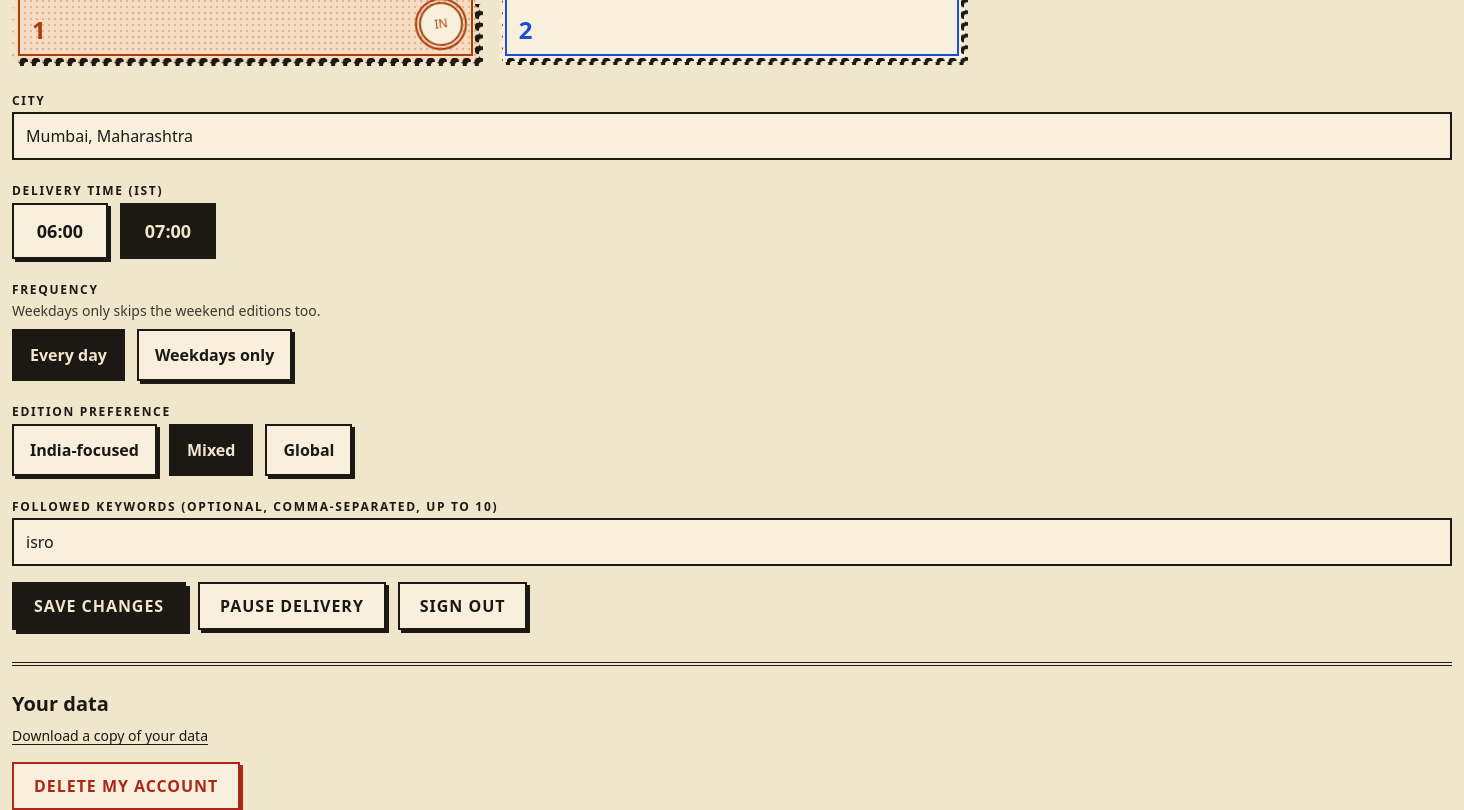
Scenario: PreferencesPage, signed in › asks for confirmation before deleting the account
(page scrolled)
Check: the text "Confirm delete" is not shown
Click the button "Delete my account": (126, 786) [12,762,240,809]
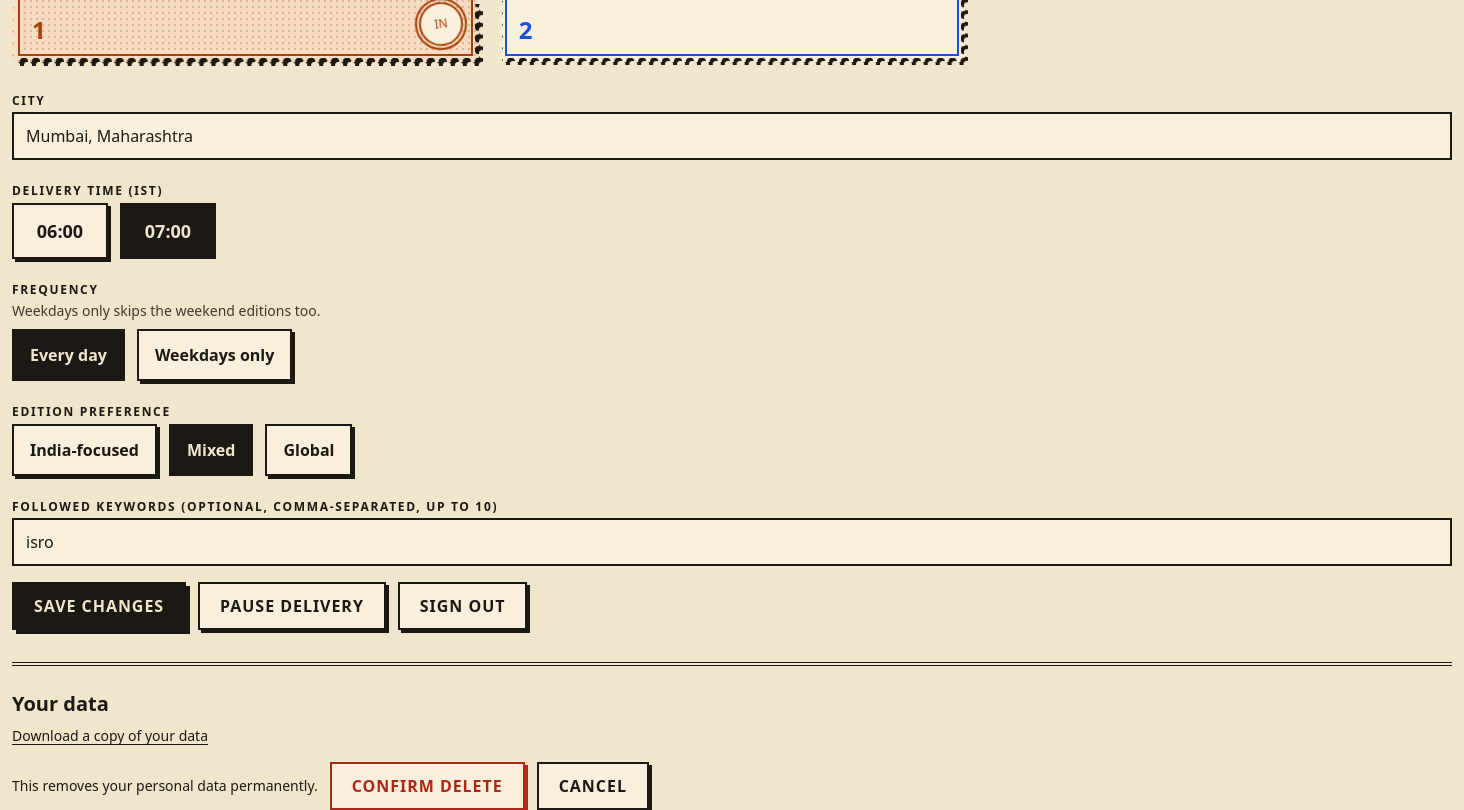
Check: the button "Confirm delete" is shown, box [330,762,525,809]
Check: the text "This removes your personal data permanently." is shown, box [12,776,318,796]
